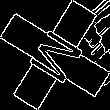M_SE: (21, 22, 89, 88)
